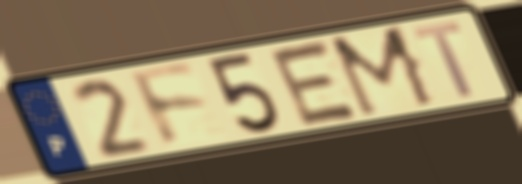2: (68, 76, 155, 161)
5: (203, 48, 284, 137)
E: (265, 37, 365, 129)
F: (124, 61, 213, 152)
M: (324, 22, 443, 122)
T: (408, 18, 479, 101)
